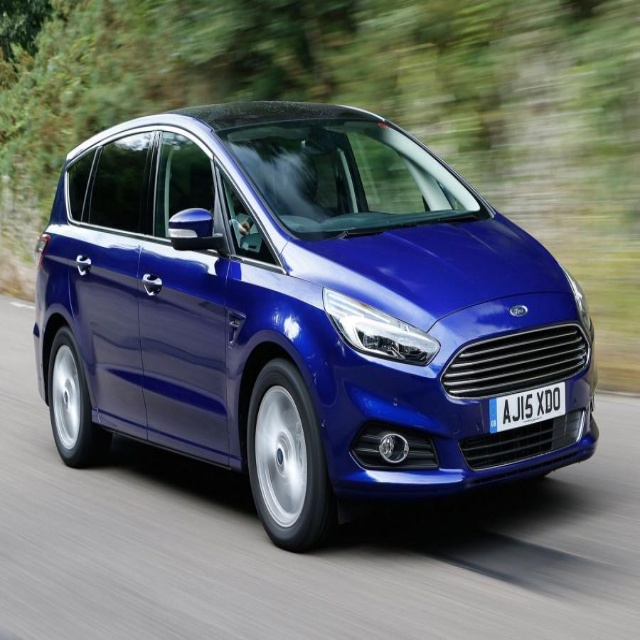Car: (33, 98, 599, 552)
